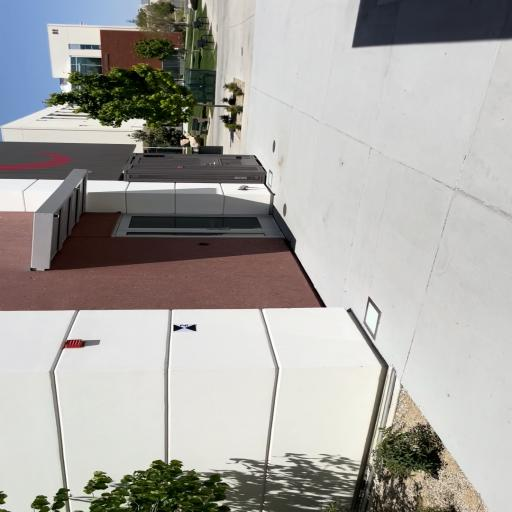target2: (173, 324, 197, 331)
